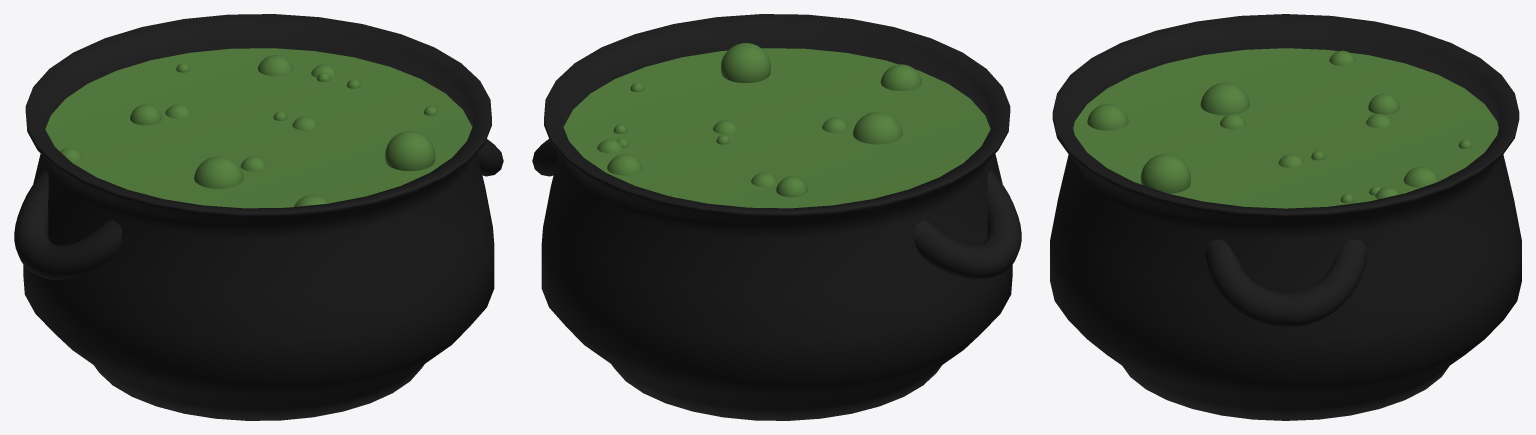
File: Cauldron.fbx
The picture shows the model from 3 angles, left to right: view 1: azimuth 30°, elevation 25°; view 2: azimuth 150°, elevation 25°; view 3: azimuth 270°, elevation 25°; orthographic projection.
Parts seen in each view (by area): view 1: Cauldron; view 2: Cauldron; view 3: Cauldron.
Boxes of the visible parts, <box> form: Cauldron: <box>14,14,503,420</box>; Cauldron: <box>532,14,1021,420</box>; Cauldron: <box>1050,14,1521,420</box>.
Size of the model in its own units: 576 by 282 by 507.
